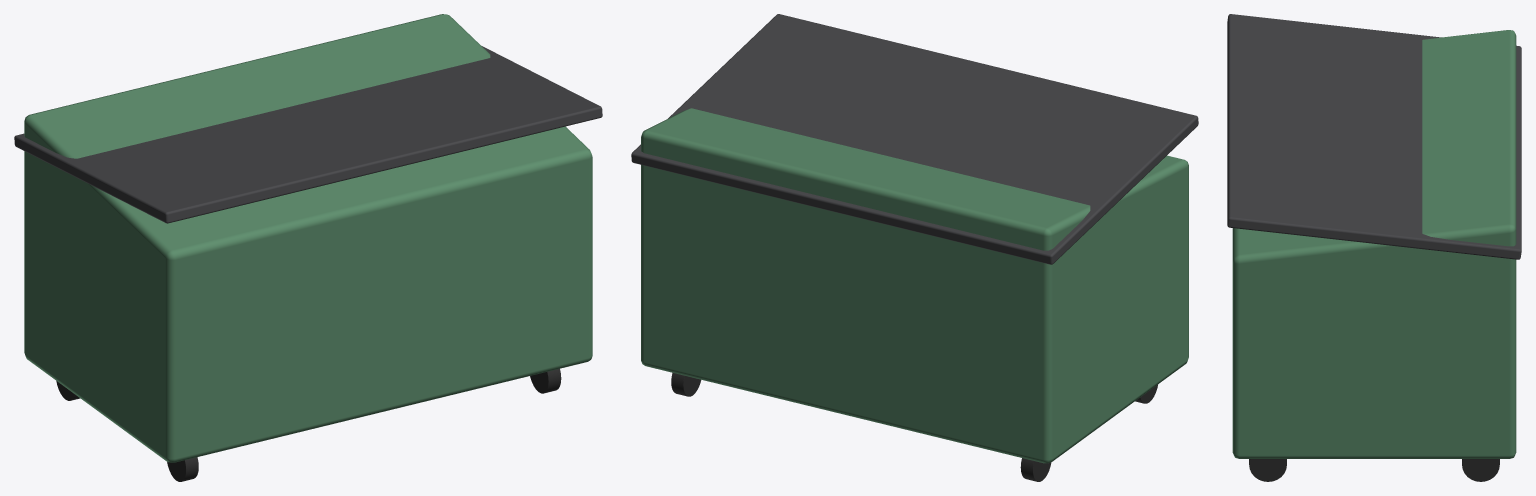
Rendered from dumpster.glb.
The picture shows the model from 3 angles, left to right: view 1: azimuth 30°, elevation 25°; view 2: azimuth 150°, elevation 25°; view 3: azimuth 270°, elevation 25°; orthographic projection. The views are drawn at different scales.
Visible parts, largest first — view 1: Body, Lid; view 2: Body, Lid; view 3: Body, Lid, Caster.002, Caster.003.
Part boxes in pixels (box(x1,y1,x2,y2)): Body: box(24, 14, 592, 462); Lid: box(14, 46, 602, 223); Body: box(641, 108, 1188, 463); Lid: box(631, 14, 1198, 264); Body: box(1232, 30, 1516, 458); Lid: box(1227, 14, 1521, 259); Caster.002: box(1249, 459, 1286, 481); Caster.003: box(1462, 459, 1499, 481).
Bounding box in the file's own units: 2.05 × 1.3 × 1.24.
